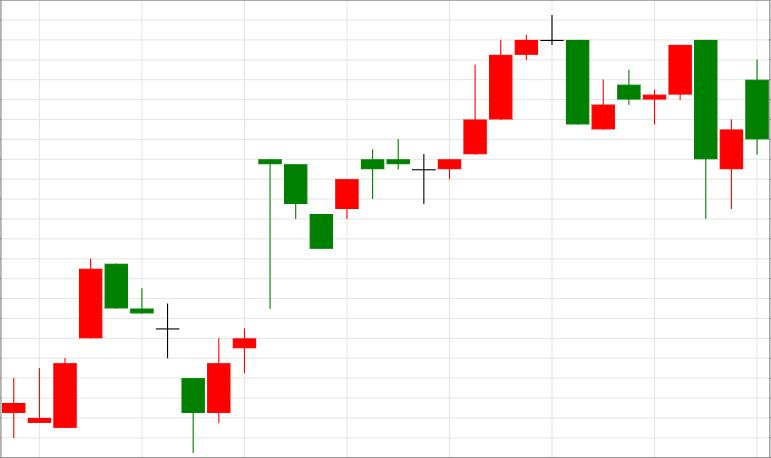bearish_engulfing_fall: (591, 40, 718, 219)
evening_star_fall: (412, 15, 589, 204)
hammer_rise: (79, 259, 205, 452)
